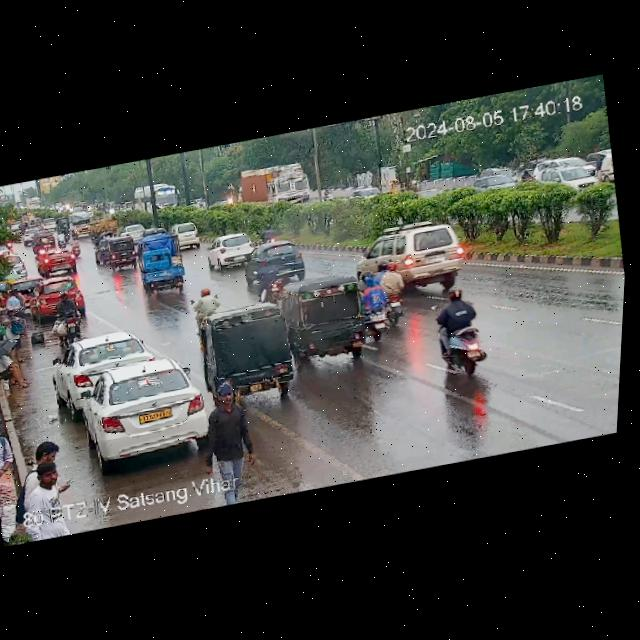bus: (131, 180, 186, 216)
car: (69, 348, 219, 469), (198, 298, 309, 410), (280, 269, 369, 370), (359, 215, 469, 294), (50, 325, 155, 403), (235, 235, 314, 301), (528, 149, 602, 196), (137, 248, 196, 298), (354, 269, 394, 341), (205, 231, 261, 271), (22, 277, 65, 322), (100, 234, 143, 270), (171, 219, 209, 254), (347, 181, 389, 206), (39, 247, 76, 275), (13, 275, 40, 301), (21, 225, 45, 244)
motorcycle: (420, 283, 501, 388), (369, 254, 414, 332), (47, 286, 87, 345), (254, 254, 283, 302), (191, 286, 222, 323), (6, 251, 29, 278), (71, 236, 83, 258), (0, 236, 15, 253), (55, 229, 67, 248), (35, 237, 47, 254)
person: (201, 373, 258, 478), (0, 422, 29, 544), (28, 435, 69, 496), (3, 307, 29, 367), (0, 347, 32, 392), (0, 288, 20, 309)
truck: (234, 155, 313, 214), (86, 210, 120, 242), (65, 208, 95, 237)
